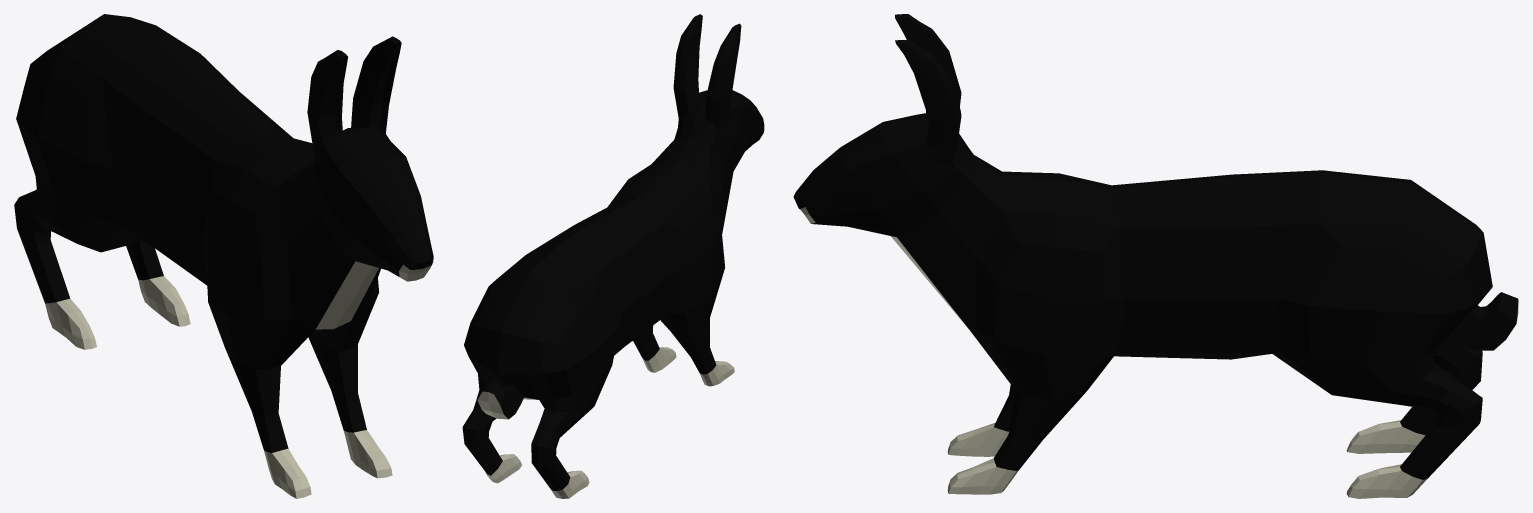
The model's file is rabbit.fbx.
3 views of the same model, side by side, from view 1: azimuth 30°, elevation 25°; view 2: azimuth 150°, elevation 25°; view 3: azimuth 270°, elevation 25° (orthographic). The views are drawn at different scales.
Visible parts, largest first — view 1: 16rabbitFinal; view 2: 16rabbitFinal; view 3: 16rabbitFinal.
Boxes of the visible parts, x1,y1,x2,y2 form: 16rabbitFinal: (14, 14, 433, 498); 16rabbitFinal: (462, 14, 764, 498); 16rabbitFinal: (793, 14, 1518, 498).
Size of the model in its own units: 0.1447 by 0.3833 by 0.5652.
1 material, 1 textured.
